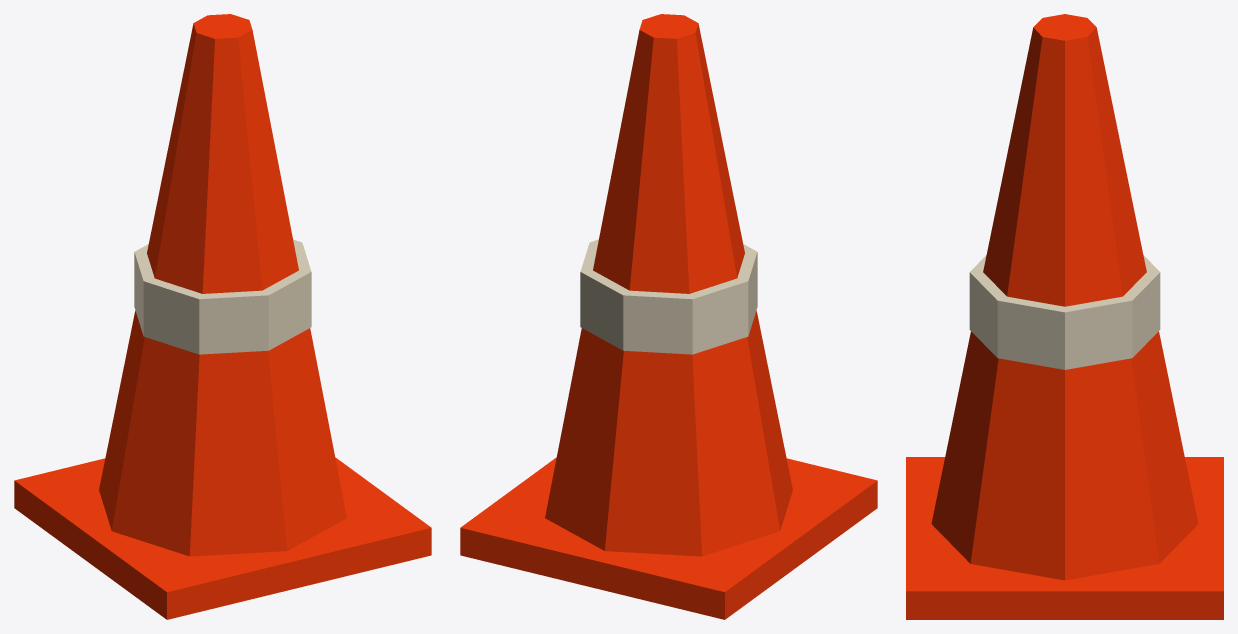
Rendered from traffic_cone.obj.
3 views of the same model, side by side, from view 1: azimuth 30°, elevation 25°; view 2: azimuth 150°, elevation 25°; view 3: azimuth 270°, elevation 25° (orthographic). The views are drawn at different scales.
Parts seen in each view (by area): view 1: traffic_cone; view 2: traffic_cone; view 3: traffic_cone.
Part boxes in pixels (x1,y1,x2,y2): traffic_cone: (14, 14, 431, 619); traffic_cone: (460, 14, 877, 619); traffic_cone: (906, 14, 1223, 619).
Bounding box in the file's own units: 0.4 × 0.73 × 0.4.
